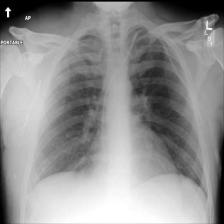normal: (25, 26, 210, 198)
